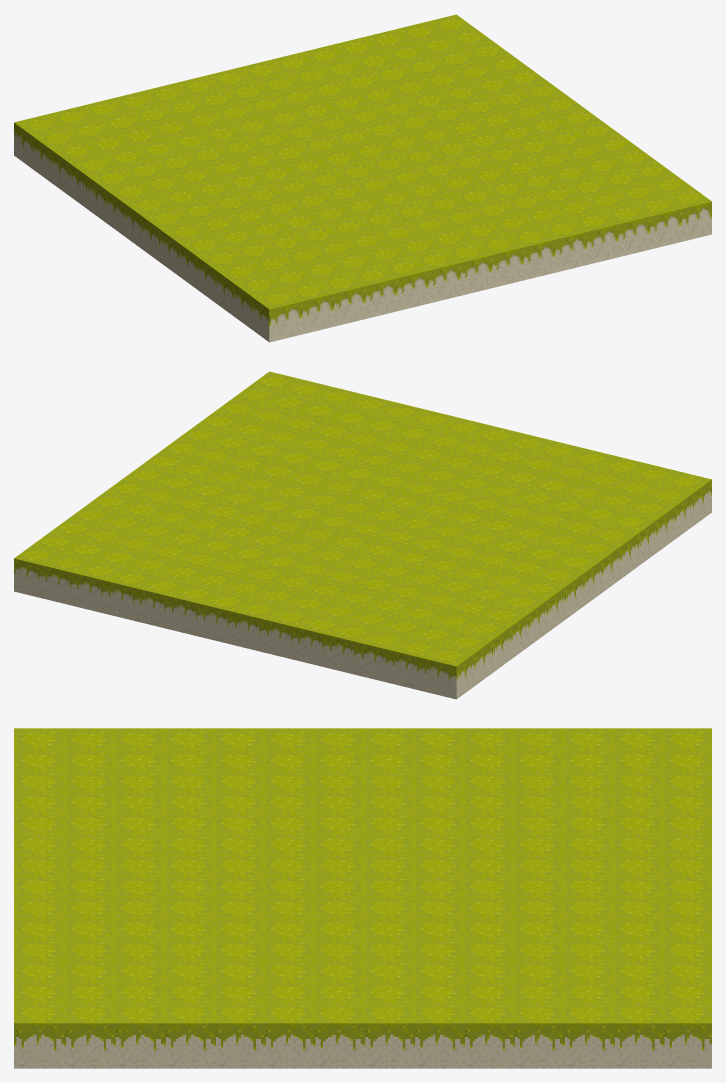
The model's file is All_Ground.fbx.
3 renders of one model, top to bottom at view 1: azimuth 30°, elevation 25°; view 2: azimuth 150°, elevation 25°; view 3: azimuth 270°, elevation 25°, orthographic. The views are drawn at different scales.
Parts seen in each view (by area): view 1: Ground_Grass_D__2__1__42__1; view 2: Ground_Grass_D__2__1__42__1; view 3: Ground_Grass_D__2__1__42__1.
Boxes of the visible parts, x1,y1,x2,y2 form: Ground_Grass_D__2__1__42__1: [14, 14, 711, 342]; Ground_Grass_D__2__1__42__1: [14, 371, 711, 699]; Ground_Grass_D__2__1__42__1: [14, 728, 711, 1068].
Bounding box in the file's own units: 8400 × 600 × 8400.
1 material, 1 textured.
